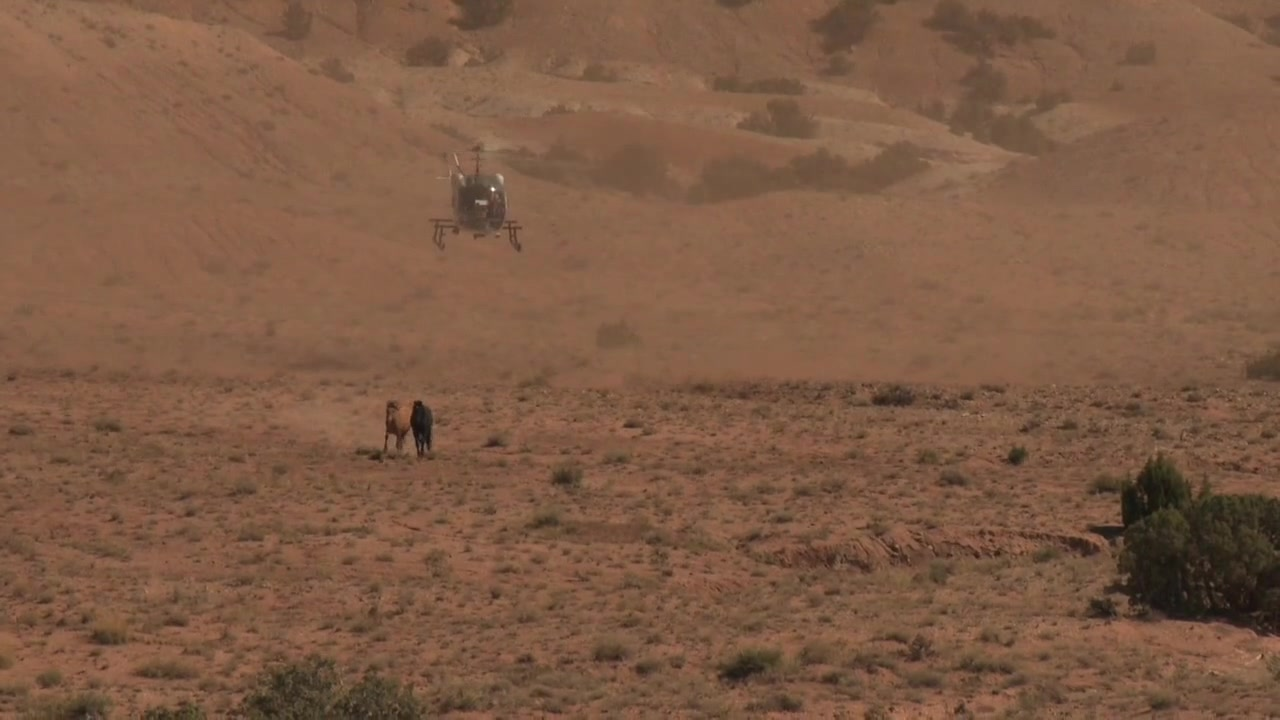horse: (384, 394, 420, 463), (412, 399, 434, 455)
